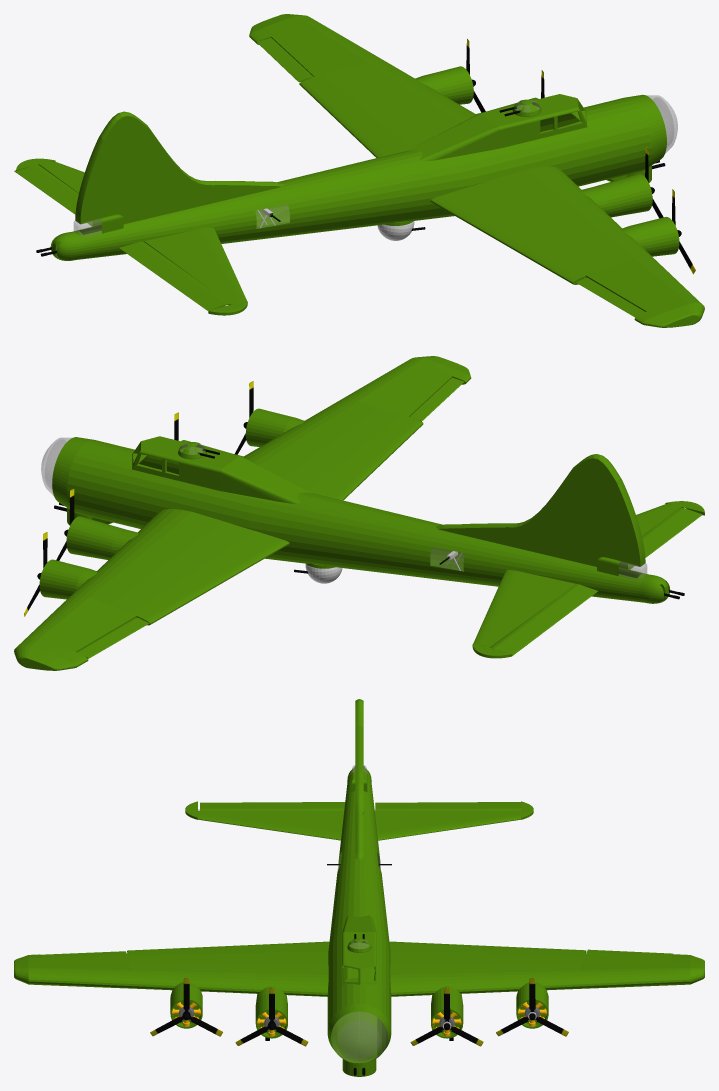
The picture shows the model from 3 angles, top to bottom: view 1: azimuth 30°, elevation 25°; view 2: azimuth 150°, elevation 25°; view 3: azimuth 270°, elevation 25°; orthographic projection. The views are drawn at different scales.
Parts seen in each view (by area): view 1: Fuse, Wing right, Wing left, Tailfin, Cockpit, Right Elevator Airfoil, Wing left.001, Wing right.002, Left Aliron.002, engine 3, Yaw, engine 4 (+8 smaller); view 2: Fuse, Wing left, Wing right, Tailfin, Cockpit, left Elevator Airfoil, Wing left.001, Wing right.002, Left Aliron.001, engine 2, Yaw, engine 4.001 (+8 smaller); view 3: Wing right, Wing left, Fuse, left Elevator Airfoil, Right Elevator Airfoil, Glass dome, Cockpit, Tailfin, Left Aliron.001, Left Aliron.002, Wing left.001, Wing right.002 (+5 smaller).
Part boxes in pixels (<box>): Fuse: <box>73,94,666,259</box>; Wing right: <box>430,166,704,327</box>; Wing left: <box>249,14,475,157</box>; Tailfin: <box>99,111,283,224</box>; Cockpit: <box>406,94,587,161</box>; Right Elevator Airfoil: <box>144,227,247,304</box>; Wing left.001: <box>274,22,367,74</box>; Wing right.002: <box>593,258,683,309</box>; Left Aliron.002: <box>119,241,230,310</box>; engine 3: <box>581,174,652,217</box>; Yaw: <box>75,137,103,224</box>; engine 4: <box>621,217,679,256</box>; Fuse: <box>52,437,647,602</box>; Wing left: <box>14,509,289,670</box>; Wing right: <box>243,356,471,500</box>; Tailfin: <box>436,454,621,566</box>; Cockpit: <box>132,436,312,503</box>; left Elevator Airfoil: <box>472,570,575,647</box>; Wing left.001: <box>38,597,129,650</box>; Wing right.002: <box>358,362,448,414</box>; Left Aliron.001: <box>490,584,597,655</box>; engine 2: <box>66,516,138,559</box>; Yaw: <box>617,479,645,566</box>; engine 4.001: <box>39,559,97,599</box>; Wing right: <box>14,941,329,996</box>; Wing left: <box>389,941,704,996</box>; Fuse: <box>327,775,391,1063</box>; left Elevator Airfoil: <box>374,810,520,840</box>; Right Elevator Airfoil: <box>198,810,344,840</box>; Glass dome: <box>331,1012,387,1062</box>; Cockpit: <box>342,915,376,985</box>; Tailfin: <box>355,699,363,859</box>; Left Aliron.001: <box>375,802,522,810</box>; Left Aliron.002: <box>200,802,345,810</box>; Wing left.001: <box>580,955,674,970</box>; Wing right.002: <box>39,956,130,970</box>.
Bounding box in the file's own units: 78.66 × 23.1 × 88.11.
7 materials, 4 textured.
